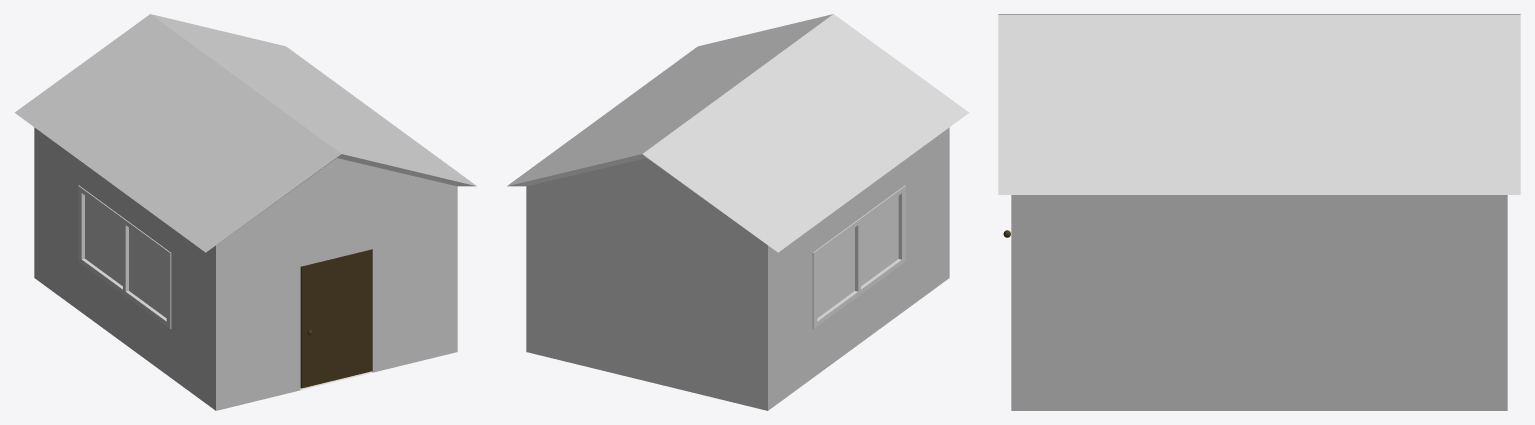
The model's file is NBF_Shed.fbx.
3 views of the same model, side by side, from view 1: azimuth 30°, elevation 25°; view 2: azimuth 150°, elevation 25°; view 3: azimuth 270°, elevation 25° (orthographic). The views are drawn at different scales.
Parts seen in each view (by area): view 1: Cube, Cube.002, Plane, Cube.003; view 2: Cube, Plane, Cube.003; view 3: Cube.
Part boxes in pixels (bbox=[...]): Cube: bbox=[14, 14, 476, 410]; Cube.002: bbox=[300, 249, 371, 388]; Plane: bbox=[85, 195, 166, 317]; Cube.003: bbox=[78, 185, 171, 328]; Cube: bbox=[507, 14, 969, 410]; Plane: bbox=[817, 196, 898, 317]; Cube.003: bbox=[812, 185, 905, 328]; Cube: bbox=[998, 14, 1520, 410].
Size of the model in its own units: 562 by 457 by 685.
